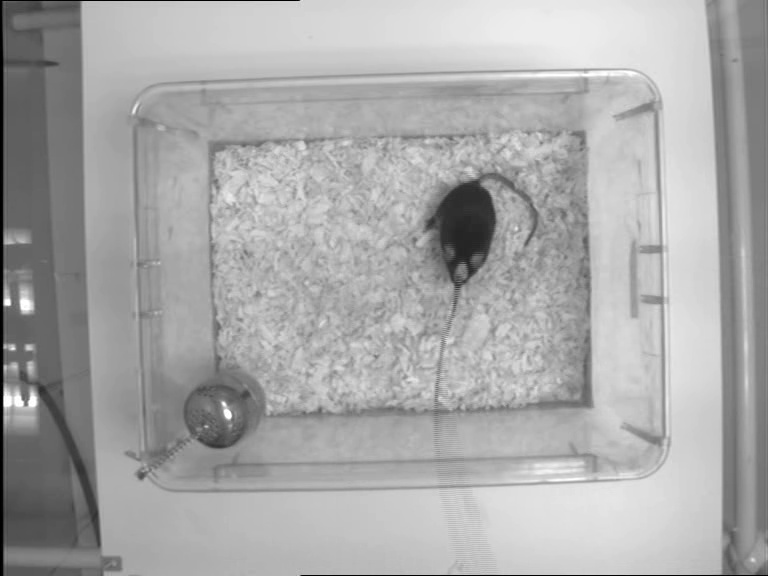mice: (417, 171, 541, 287)
